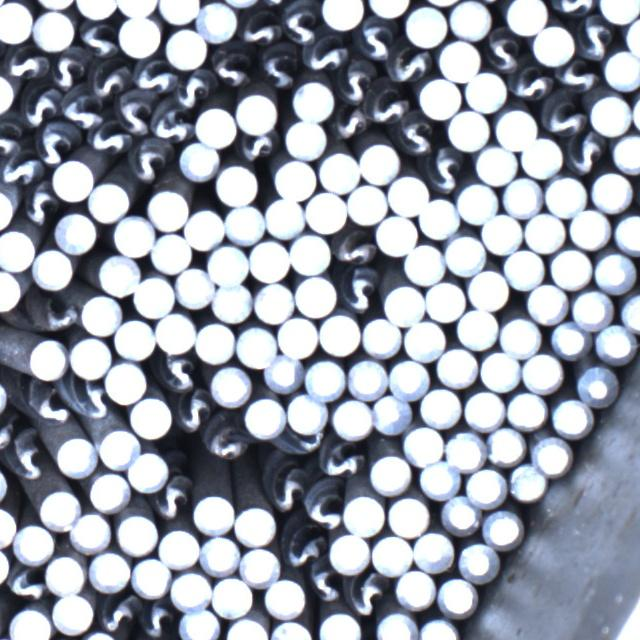tool: (445, 107, 492, 150), (261, 575, 306, 619), (587, 91, 631, 135), (543, 172, 587, 216), (417, 75, 461, 119), (303, 188, 346, 232), (317, 311, 360, 355), (127, 395, 171, 438), (374, 211, 416, 256), (589, 169, 632, 212), (51, 591, 94, 634), (132, 273, 175, 316), (369, 453, 413, 495), (317, 149, 359, 193), (567, 207, 610, 249), (330, 396, 372, 439), (210, 363, 252, 406), (548, 246, 590, 289), (412, 530, 455, 572), (503, 247, 546, 289), (68, 335, 110, 378), (592, 250, 634, 293), (463, 465, 506, 507), (342, 493, 385, 535), (438, 37, 480, 80), (105, 360, 147, 403), (113, 316, 155, 359), (520, 135, 562, 178), (303, 355, 344, 399), (398, 424, 443, 464), (402, 318, 444, 360), (196, 0, 238, 42), (382, 283, 424, 325), (285, 393, 327, 435), (87, 470, 129, 512), (525, 282, 567, 324), (118, 14, 160, 56), (79, 292, 121, 334), (210, 575, 252, 617), (361, 317, 403, 359), (51, 159, 93, 201), (216, 163, 258, 205), (206, 241, 248, 283), (193, 321, 234, 364), (521, 352, 564, 393), (327, 531, 368, 574), (424, 277, 465, 320), (253, 280, 294, 323), (69, 511, 110, 554), (129, 557, 170, 600), (170, 566, 211, 609), (211, 281, 252, 324), (466, 268, 507, 311), (249, 237, 290, 280), (154, 311, 195, 354), (86, 181, 130, 221), (370, 533, 411, 575), (88, 549, 129, 591), (346, 358, 387, 400), (394, 568, 436, 609), (235, 325, 276, 367), (388, 494, 429, 536), (243, 396, 284, 438), (456, 308, 497, 350), (164, 28, 206, 69), (456, 180, 497, 222), (44, 552, 86, 593), (494, 106, 536, 147), (146, 187, 188, 228), (284, 117, 325, 159), (193, 492, 235, 533), (444, 428, 484, 471), (276, 315, 316, 358), (404, 242, 444, 285), (464, 71, 507, 111), (462, 389, 503, 430), (420, 386, 461, 427), (437, 346, 478, 387), (524, 210, 565, 251), (158, 527, 199, 568), (404, 4, 445, 45), (289, 233, 330, 274), (236, 91, 277, 132), (388, 356, 428, 398), (346, 182, 386, 224), (443, 234, 483, 276), (115, 513, 155, 555), (126, 450, 168, 490), (184, 208, 224, 250), (151, 231, 191, 273), (238, 545, 280, 585), (234, 504, 276, 544), (97, 253, 137, 294), (501, 175, 541, 216), (33, 10, 74, 50), (476, 144, 517, 184), (263, 197, 303, 238), (480, 213, 521, 253), (193, 105, 233, 146), (224, 203, 264, 244), (112, 216, 153, 256), (56, 213, 97, 253), (419, 199, 460, 239), (418, 460, 460, 499), (97, 427, 135, 470), (479, 350, 519, 390), (571, 287, 611, 327), (261, 354, 301, 394), (440, 495, 480, 535), (27, 339, 67, 379), (33, 248, 73, 288), (14, 522, 54, 562), (575, 364, 615, 404), (484, 426, 525, 465), (499, 316, 540, 355), (532, 25, 573, 64), (594, 323, 635, 362), (550, 397, 591, 436), (294, 276, 335, 315), (179, 140, 218, 181), (274, 158, 315, 197), (359, 142, 398, 183), (54, 437, 95, 476), (39, 489, 80, 528), (437, 576, 477, 615), (371, 393, 410, 433), (199, 534, 238, 574), (506, 390, 546, 429), (389, 174, 428, 214), (482, 508, 521, 548), (549, 320, 590, 358), (457, 541, 498, 579), (450, 0, 491, 38), (175, 267, 213, 307), (0, 227, 35, 270), (531, 435, 570, 473), (508, 463, 547, 501), (603, 49, 640, 89), (293, 81, 332, 118), (505, 0, 547, 34), (8, 607, 51, 640), (178, 606, 219, 640), (375, 608, 418, 640), (320, 0, 364, 30), (0, 0, 31, 42), (610, 131, 640, 173), (318, 610, 360, 640), (614, 212, 640, 255), (269, 616, 313, 640), (225, 616, 268, 640), (598, 0, 640, 24), (418, 617, 458, 640), (0, 270, 22, 311), (159, 0, 200, 22), (620, 290, 640, 331), (76, 0, 116, 18), (116, 0, 158, 16), (367, 0, 409, 16), (0, 504, 16, 545)
tool_b: (269, 461, 310, 516), (22, 381, 69, 427), (381, 44, 435, 84), (305, 476, 344, 530), (26, 294, 80, 333), (208, 42, 251, 90), (344, 572, 388, 618), (8, 432, 50, 480), (151, 105, 198, 147), (283, 525, 326, 570), (207, 413, 246, 462), (35, 123, 78, 167), (257, 42, 300, 86), (130, 137, 169, 185), (562, 135, 606, 177), (63, 87, 104, 132), (300, 33, 346, 73), (86, 118, 133, 157), (18, 87, 61, 129), (115, 92, 155, 137), (540, 100, 588, 137), (424, 149, 464, 193), (483, 29, 523, 73), (576, 16, 616, 60), (392, 113, 430, 159), (97, 595, 141, 634), (552, 60, 602, 94), (237, 10, 279, 50), (319, 439, 362, 478), (17, 184, 56, 226), (352, 20, 394, 59), (341, 269, 378, 313), (282, 0, 319, 44), (174, 392, 210, 437), (76, 17, 116, 57), (334, 229, 376, 267), (5, 46, 50, 81), (507, 69, 553, 103), (71, 381, 111, 420), (339, 62, 373, 107), (133, 57, 173, 95), (158, 479, 194, 520), (306, 562, 341, 604), (141, 599, 176, 640), (0, 150, 42, 184), (10, 565, 48, 602), (92, 61, 129, 99), (48, 50, 84, 89), (365, 88, 407, 121), (176, 70, 209, 110), (240, 130, 282, 161), (163, 356, 198, 393), (282, 429, 322, 457), (334, 104, 366, 137), (0, 117, 25, 156), (551, 0, 597, 19)
